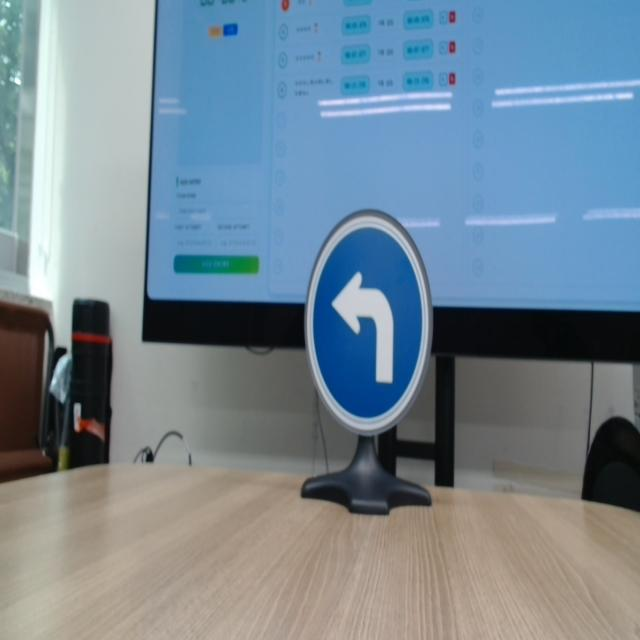left_direction: (303, 203, 440, 440)
